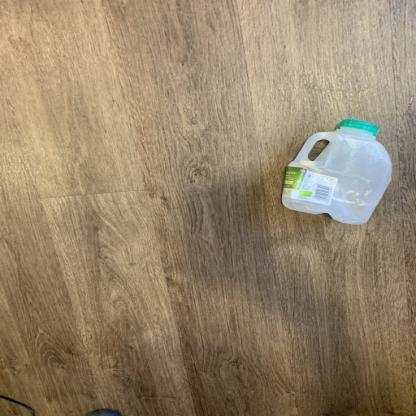trash: (280, 114, 400, 226)
